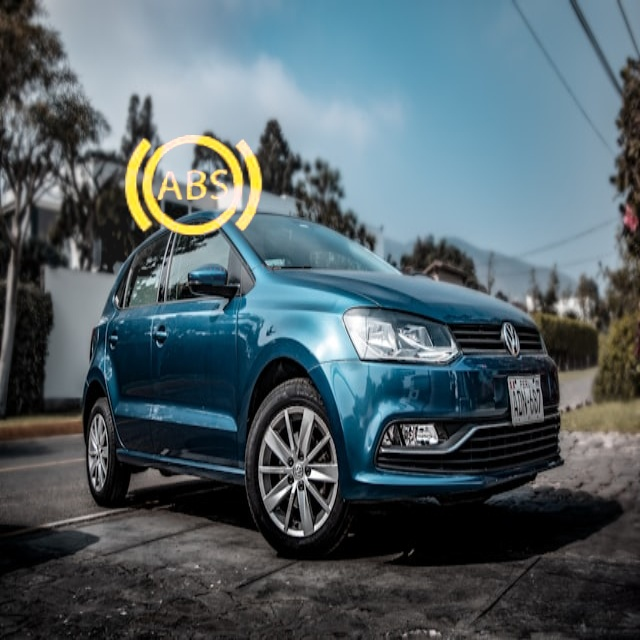symbol: (96, 90, 289, 283)
